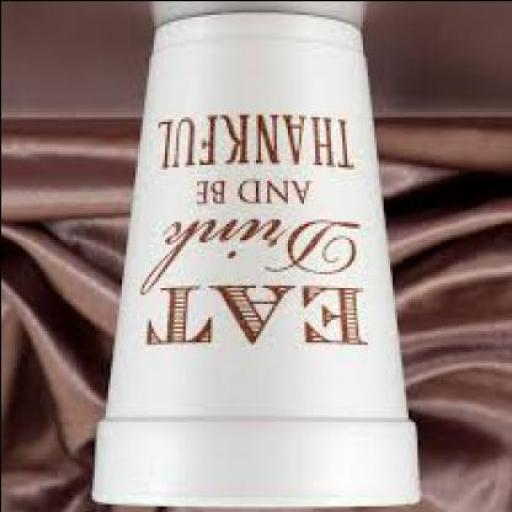paper: (91, 9, 423, 508)
